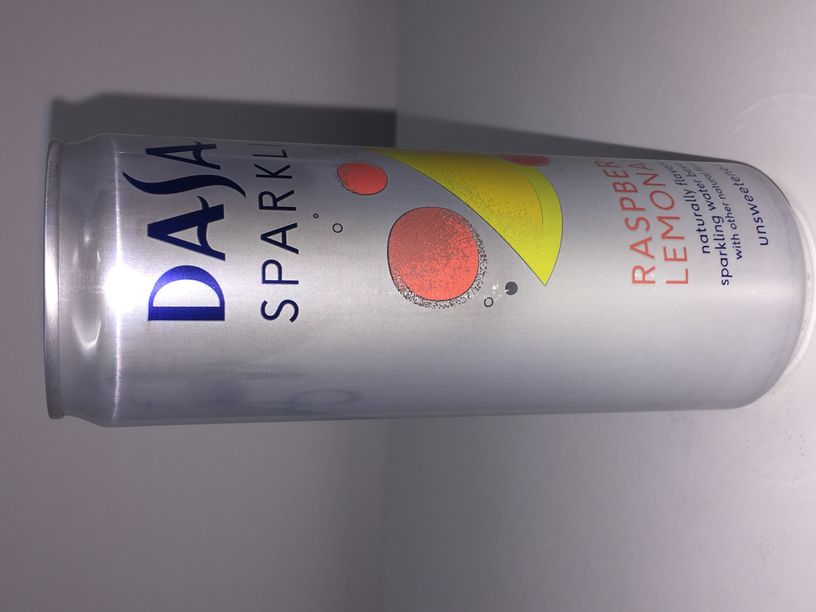lemonade: (39, 133, 810, 431)
